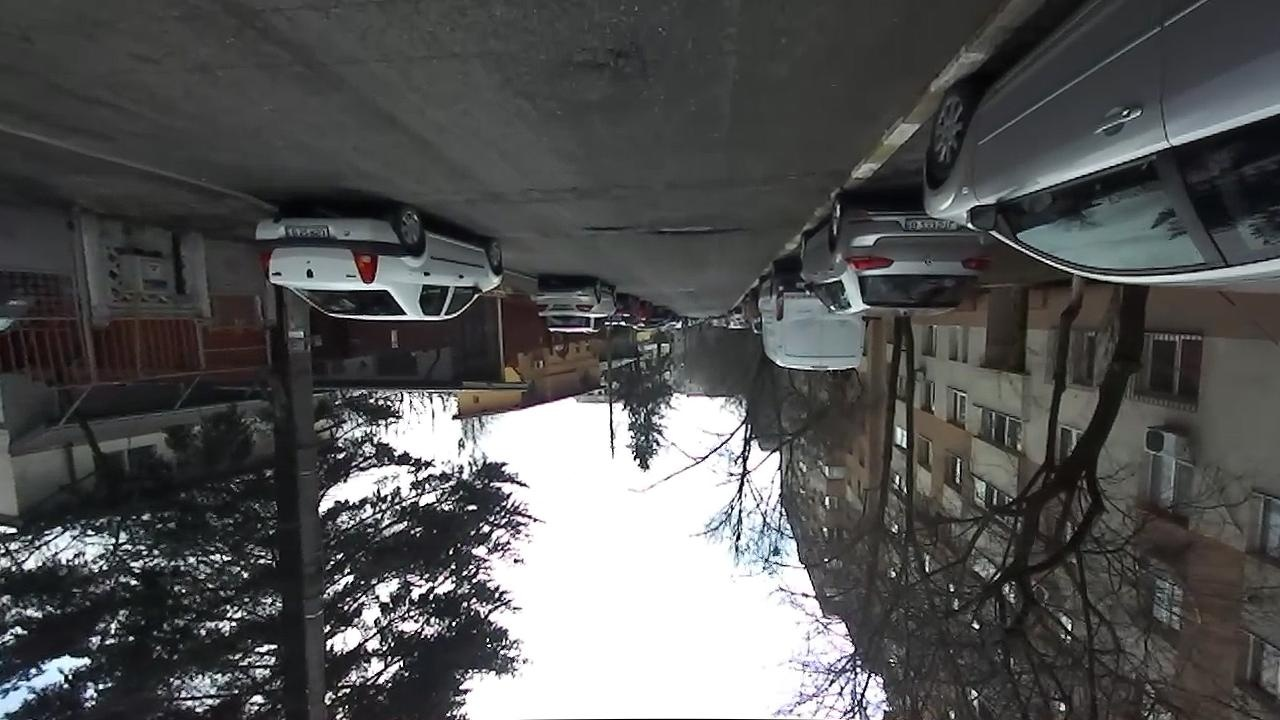pothole: (649, 219, 749, 238), (586, 42, 639, 73), (580, 221, 635, 234)
